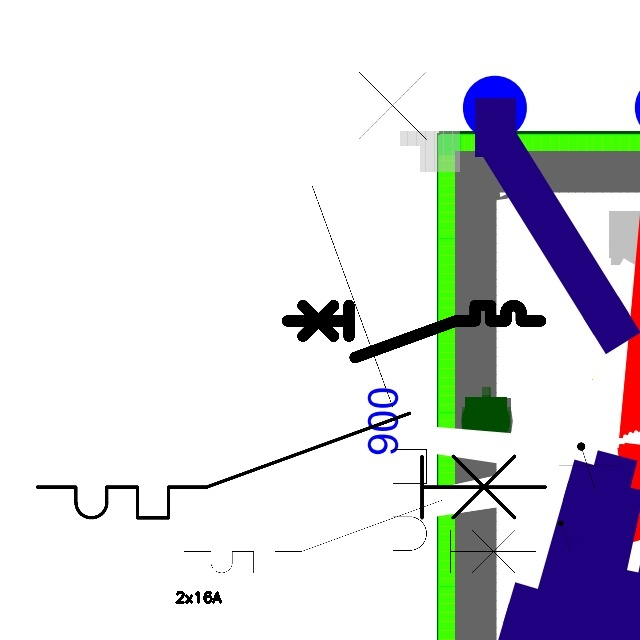interruptor_termomagnetico: (298, 24, 441, 607), (24, 400, 559, 531), (175, 491, 545, 582), (281, 299, 547, 364)
